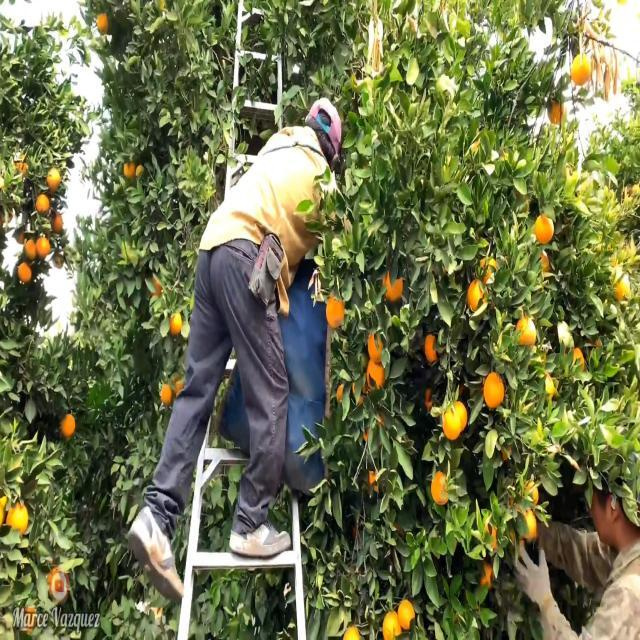Jeruk Sudah Matang: (441, 400, 467, 446), (364, 352, 391, 396), (380, 264, 408, 304), (482, 368, 506, 412), (569, 47, 593, 90), (515, 314, 539, 356), (466, 277, 489, 318), (430, 467, 452, 509), (546, 90, 568, 130), (7, 500, 30, 538), (534, 212, 558, 247), (421, 328, 443, 366), (325, 292, 348, 328), (381, 605, 404, 640), (397, 596, 418, 632), (368, 328, 390, 362), (32, 230, 54, 264), (57, 410, 79, 442), (44, 162, 62, 197), (51, 205, 68, 235), (167, 308, 183, 336), (18, 257, 33, 285), (34, 190, 51, 214), (24, 236, 38, 262), (159, 380, 173, 404)
